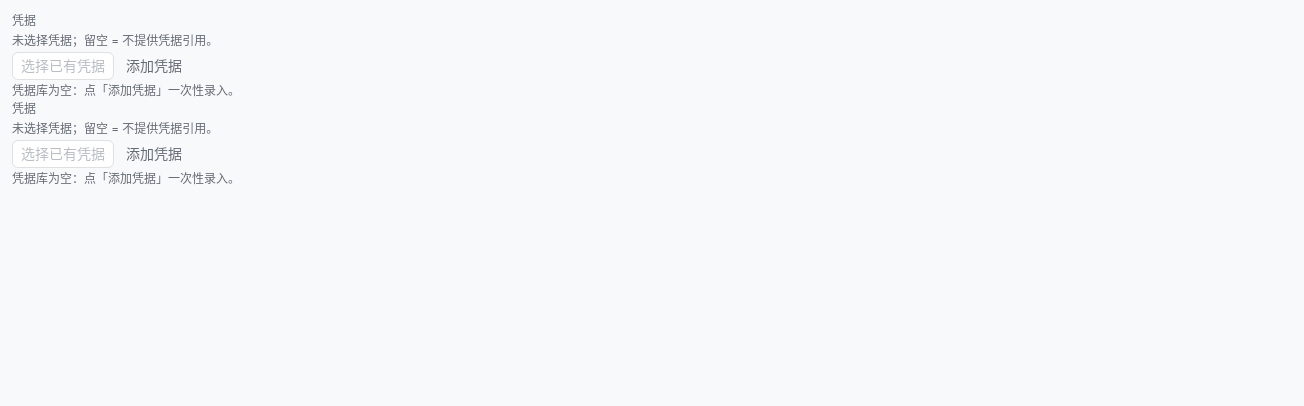
Test case: Operations AST credential operation readback paths › deduplicates a shared pending readback across editor fields and an explicit retry click
The image size is (1304, 406).
Click the 1st button "添加凭据".
click(154, 66)  # box [118,52,190,80]
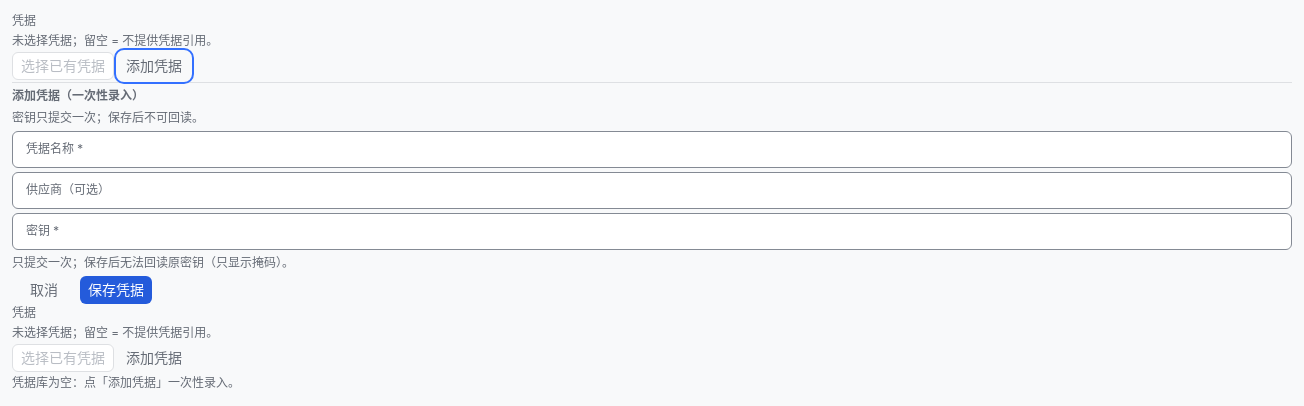
Type "AST Test Credential" into the field labelled "凭据名称 *".
click(652, 150); type("AST Test Credential")  # box [12,131,1292,168]
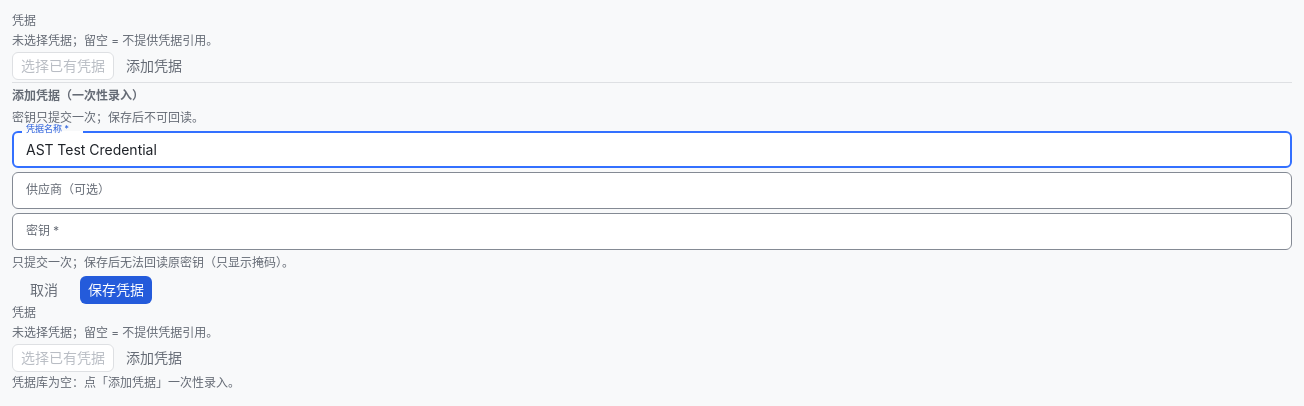
Type "example" into the field labelled "供应商（可选）".
click(652, 191); type("example")  # box [12,172,1292,209]
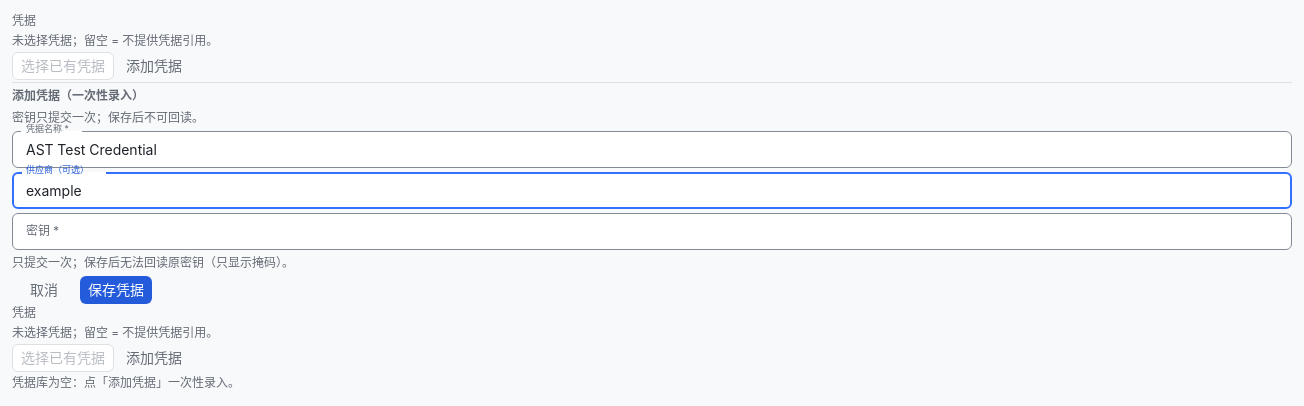
Type "sk_ast_shared_secret_8765" into the password field labelled "密钥 *".
click(652, 232); type("sk_ast_shared_secret_8765")  # box [12,213,1292,250]
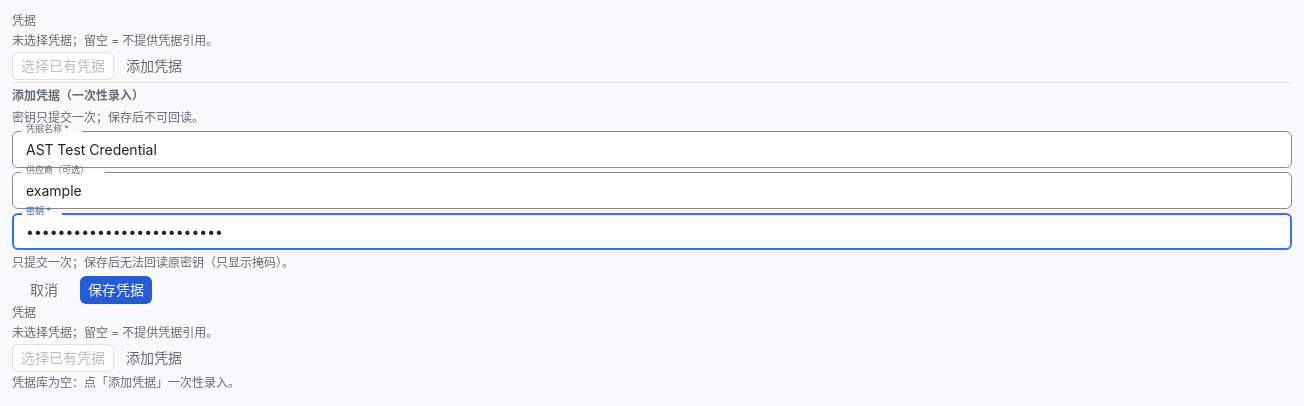
Click the button "保存凭据".
click(116, 290)  # box [80,276,152,304]
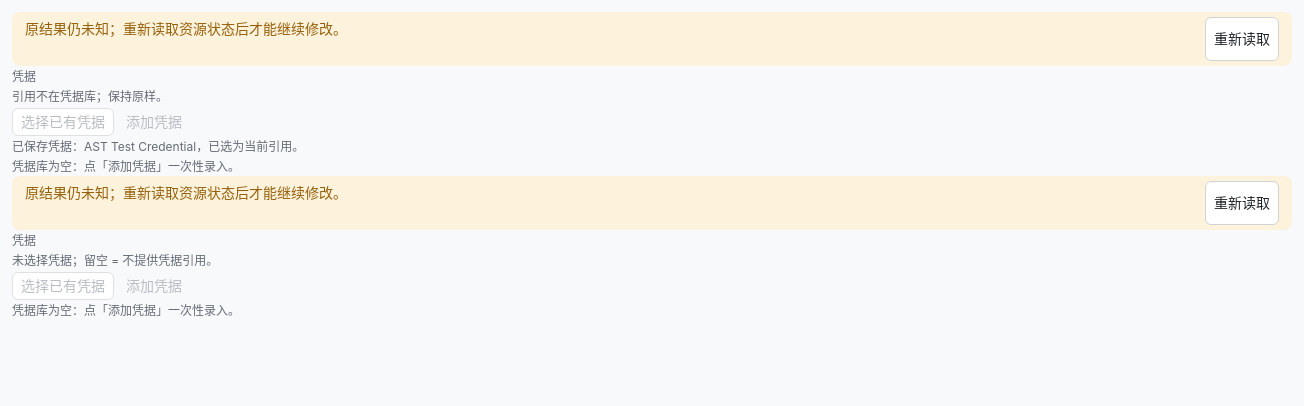
Click the 1st button with test id "tracked-operation-readback".
click(1242, 39)  # box [1205,17,1279,61]
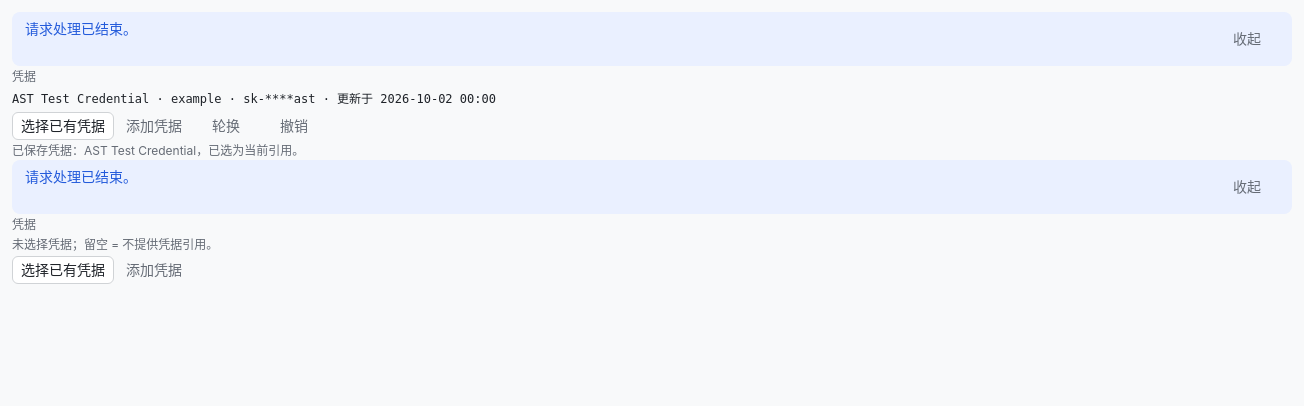
Check: no buttons with test id "tracked-operation-readback" are shown
